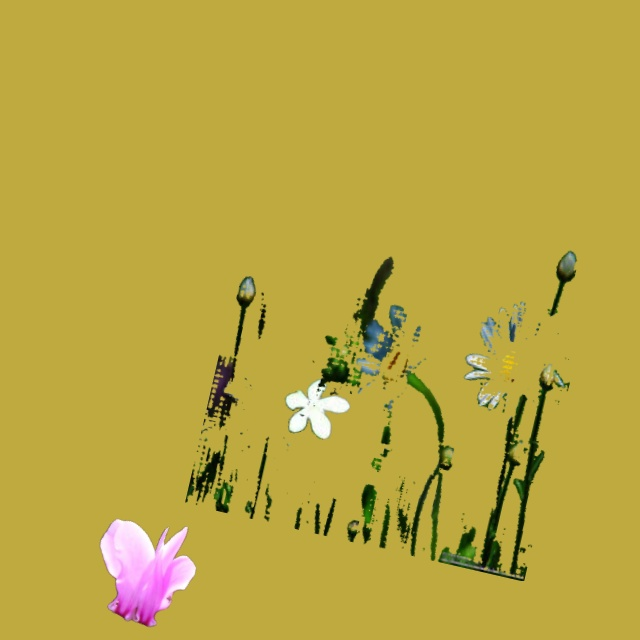cyclamen: (100, 519, 195, 626)
daisy: (185, 251, 576, 580)
jasmine: (285, 379, 349, 438)
